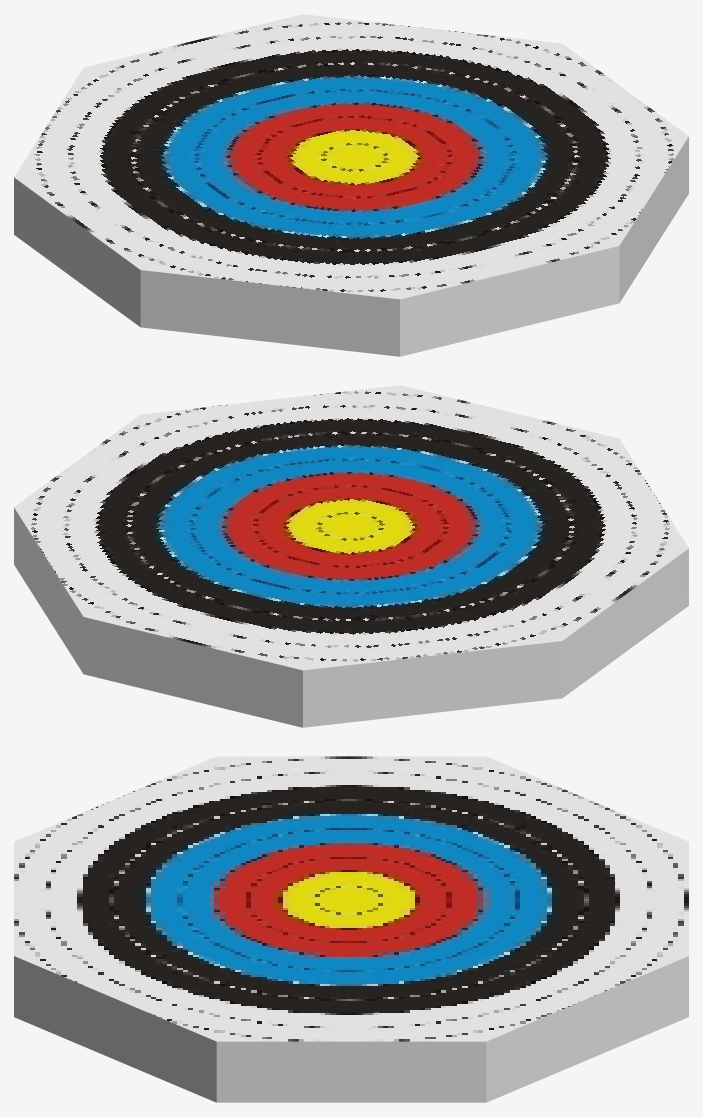
File: target.glb
3 renders of one model, top to bottom at view 1: azimuth 30°, elevation 25°; view 2: azimuth 150°, elevation 25°; view 3: azimuth 270°, elevation 25°, orthographic. The views are drawn at different scales.
Parts seen in each view (by area): view 1: Plane; view 2: Plane; view 3: Plane.
Boxes of the visible parts, left/top/right/bottom form: Plane: left=14, top=14, right=688, bottom=356; Plane: left=14, top=385, right=688, bottom=727; Plane: left=14, top=756, right=688, bottom=1102.
Size of the model in its own units: 2 by 0.2 by 2.
1 material, 1 textured.
